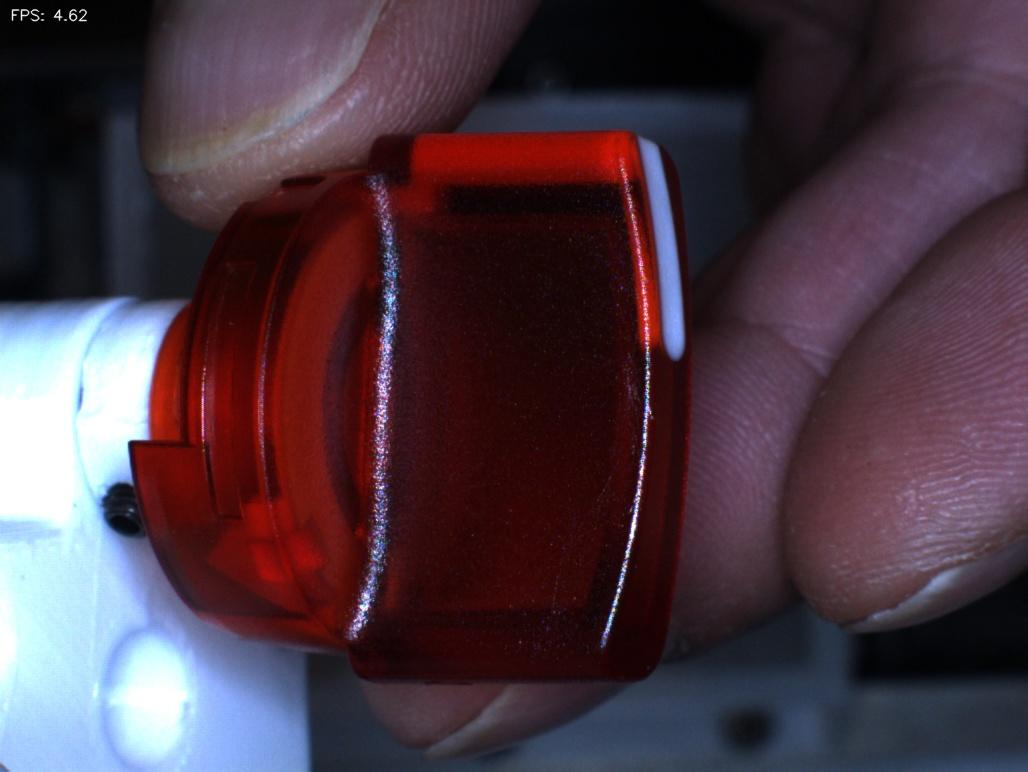Givrage: (590, 339, 667, 444)
